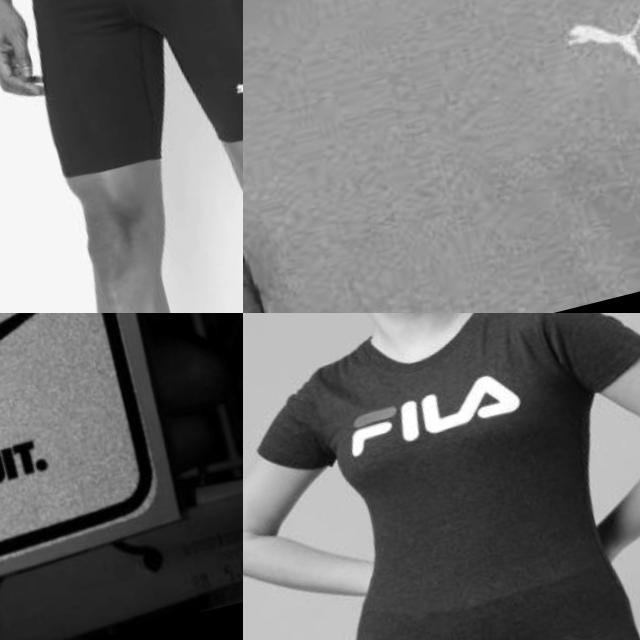FILA_original: (332, 342, 534, 477)
NIKE_fake: (0, 313, 145, 556)
PUMA_original: (546, 0, 640, 90), (220, 51, 243, 125)
